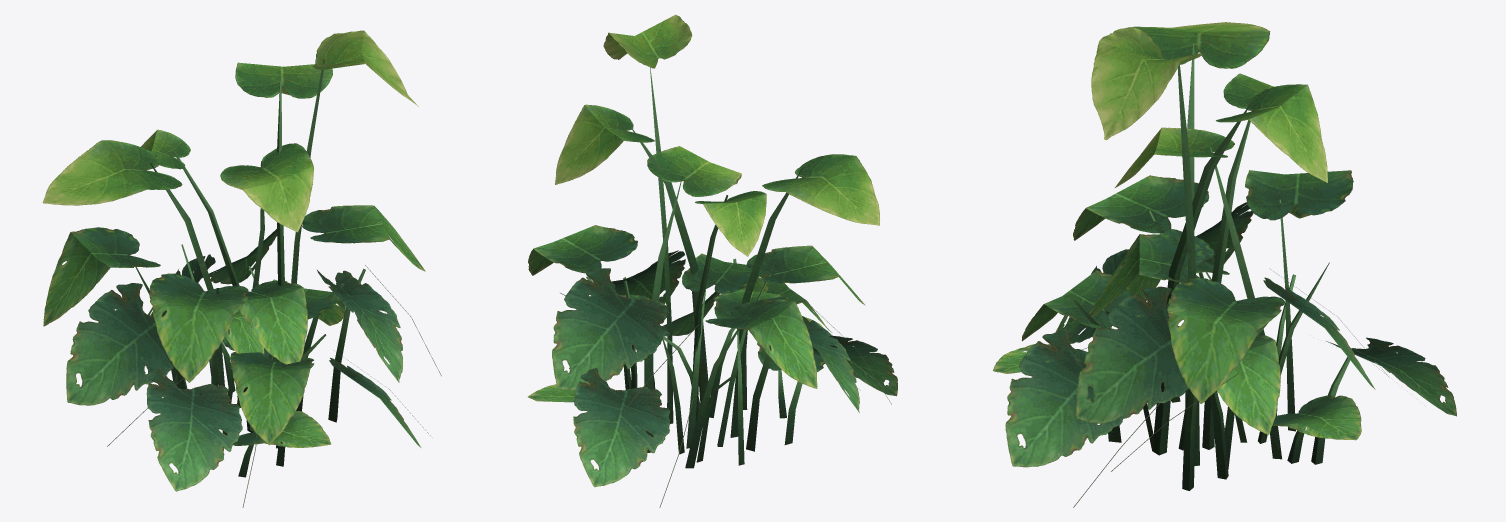
Rendered from 4006_Item_cao_2.FBX.
3 renders of one model, left to right at view 1: azimuth 30°, elevation 25°; view 2: azimuth 150°, elevation 25°; view 3: azimuth 270°, elevation 25°, orthographic. The views are drawn at different scales.
Visible parts, largest first — view 1: 4006_Item_cao_2; view 2: 4006_Item_cao_2; view 3: 4006_Item_cao_2.
Boxes of the visible parts, x1=… form: 4006_Item_cao_2: x1=42, y1=30, x2=441, y2=507; 4006_Item_cao_2: x1=528, y1=14, x2=897, y2=507; 4006_Item_cao_2: x1=993, y1=22, x2=1456, y2=507.
Bounding box in the file's own units: 78.44 × 73.03 × 77.8.
